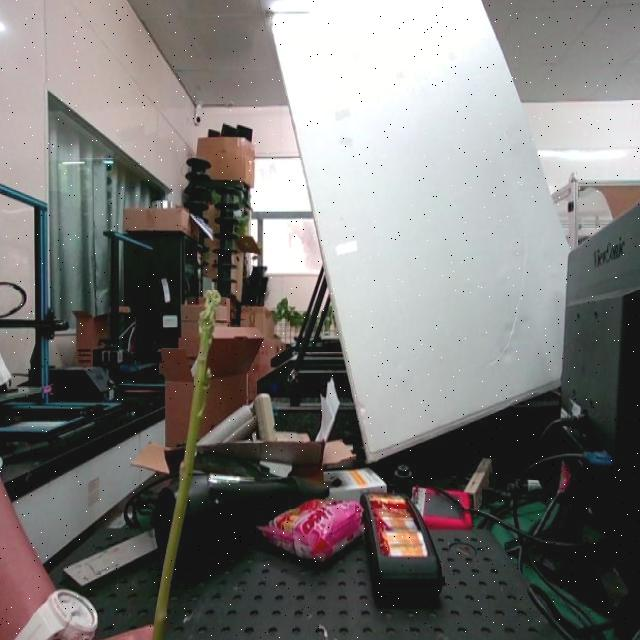aspargus: (154, 276, 216, 640)
